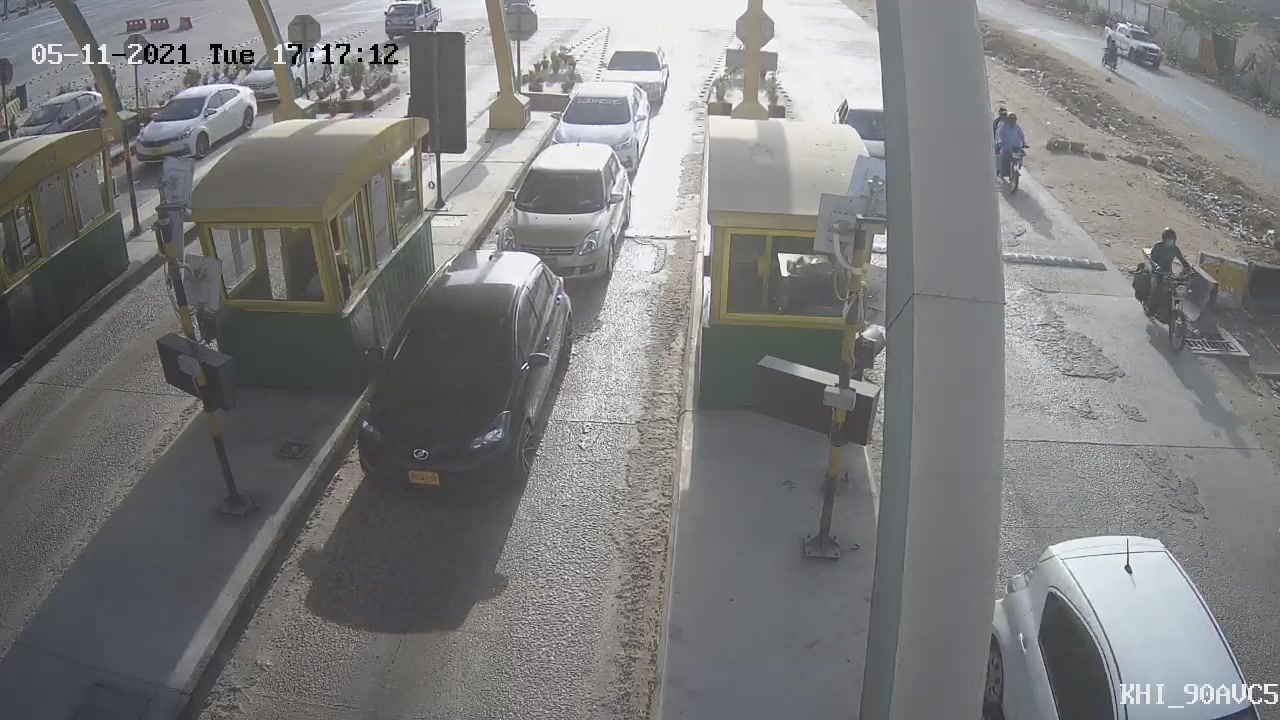F1: (335, 235, 592, 513), (479, 133, 648, 312)
